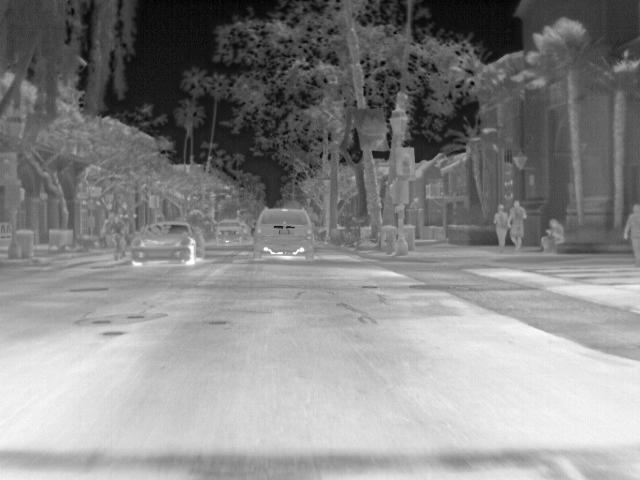car: (251, 204, 315, 262), (127, 220, 203, 268), (212, 219, 242, 245), (241, 222, 253, 241)
person: (505, 199, 529, 253), (621, 200, 639, 262), (538, 219, 566, 253), (108, 209, 132, 245), (492, 203, 509, 252)
